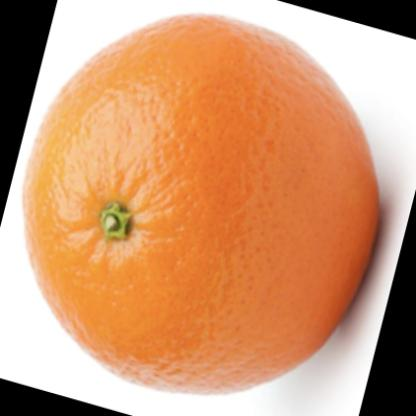fresh: (24, 14, 381, 395)
